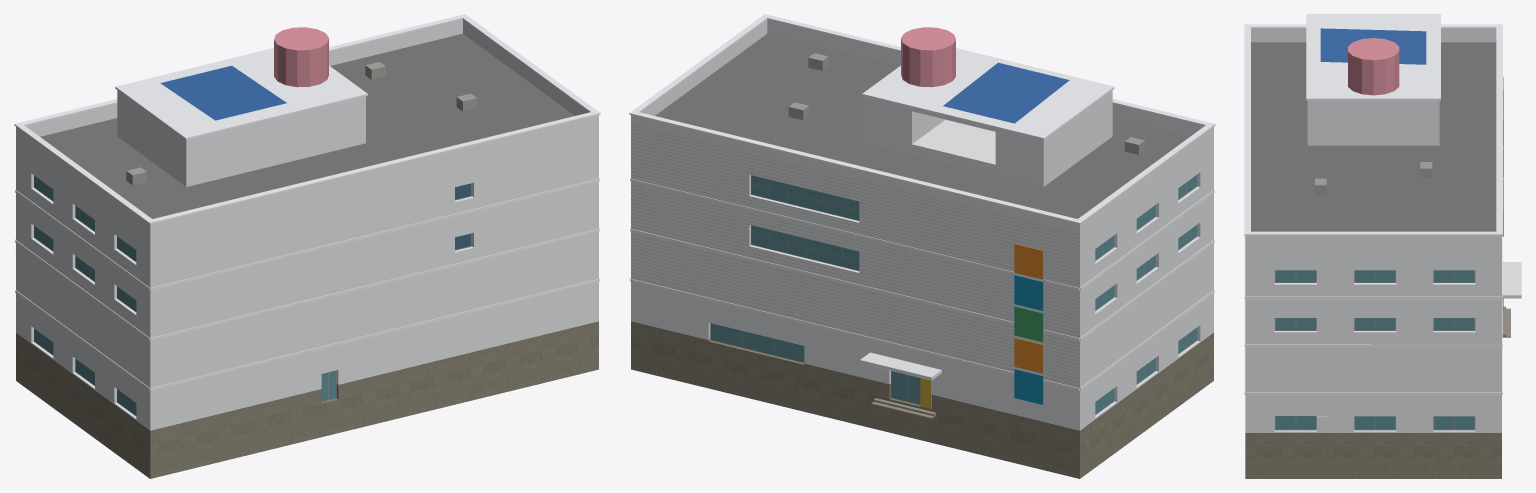
3 renders of one model, left to right at view 1: azimuth 30°, elevation 25°; view 2: azimuth 150°, elevation 25°; view 3: azimuth 270°, elevation 25°, orthographic. The views are drawn at different scales.
Visible parts, largest first — view 1: w451562707__panel-wall, w451562707__plinth-wall, w451562707__roof, w451562707__trim, w451562707__metal-blue, w451562707__cyl-pink, w451562707__glass, w451562707__ac, w451562707__frame; view 2: w451562707__panel-wall, w451562707__plinth-wall, w451562707__roof, w451562707__trim, w451562707__joint, w451562707__glass, w451562707__metal-blue, w451562707__cyl-pink, w451562707__banner-orange, w451562707__banner-blue, w451562707__frame, w451562707__ac (+2 smaller); view 3: w451562707__panel-wall, w451562707__roof, w451562707__trim, w451562707__plinth-wall, w451562707__glass, w451562707__cyl-pink, w451562707__metal-blue, w451562707__frame, w451562707__ac.
Part boxes in pixels (x1,y1,x2,y2): w451562707__panel-wall: (16,19,598,430); w451562707__plinth-wall: (16,321,598,478); w451562707__roof: (40,33,574,218); w451562707__trim: (14,14,600,390); w451562707__metal-blue: (160,65,286,120); w451562707__cyl-pink: (274,27,328,87); w451562707__glass: (34,176,136,415); w451562707__ac: (126,62,477,185); w451562707__frame: (34,175,472,415); w451562707__panel-wall: (631,19,1213,430); w451562707__plinth-wall: (631,321,1213,478); w451562707__roof: (655,33,1189,218); w451562707__trim: (629,14,1215,391); w451562707__joint: (631,125,1079,385); w451562707__glass: (711,175,1196,414); w451562707__metal-blue: (943,62,1069,123); w451562707__cyl-pink: (901,27,955,87); w451562707__banner-orange: (1014,243,1043,373); w451562707__banner-blue: (1014,275,1043,404); w451562707__frame: (710,174,1197,414); w451562707__ac: (788,53,1145,154); w451562707__panel-wall: (1245,28,1521,432); w451562707__roof: (1251,42,1496,231); w451562707__trim: (1244,14,1502,395); w451562707__plinth-wall: (1245,433,1501,478); w451562707__glass: (1276,270,1474,429); w451562707__cyl-pink: (1348,38,1399,95); w451562707__metal-blue: (1320,28,1426,64); w451562707__frame: (1275,270,1475,430); w451562707__ac: (1315,162,1432,194).
Size of the model in its own units: 37.65 by 26.95 by 21.01.
19 materials, 1 textured.
